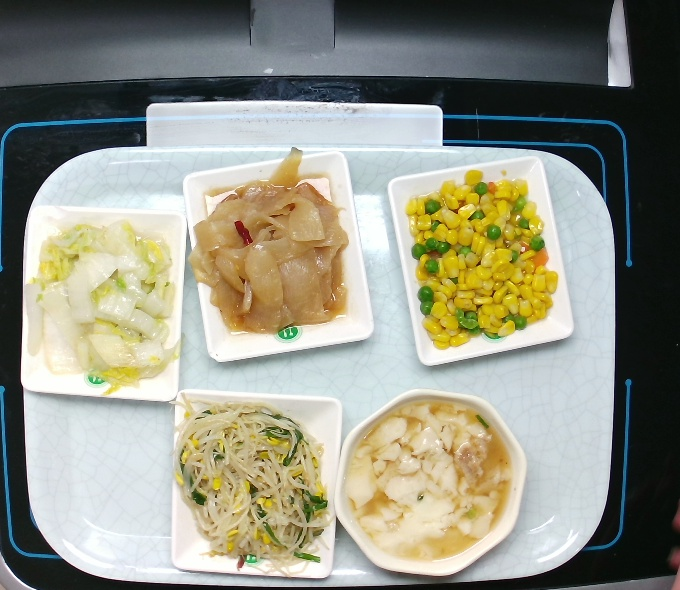wcq-DaBaiCai: (18, 217, 191, 399)
wcq-DongGua: (184, 141, 359, 337)
wcq-DouYa: (166, 387, 338, 581)
wcq-ShuiZhengDan: (338, 395, 517, 569)
wcq-TianMiTianDou: (403, 166, 564, 354)
